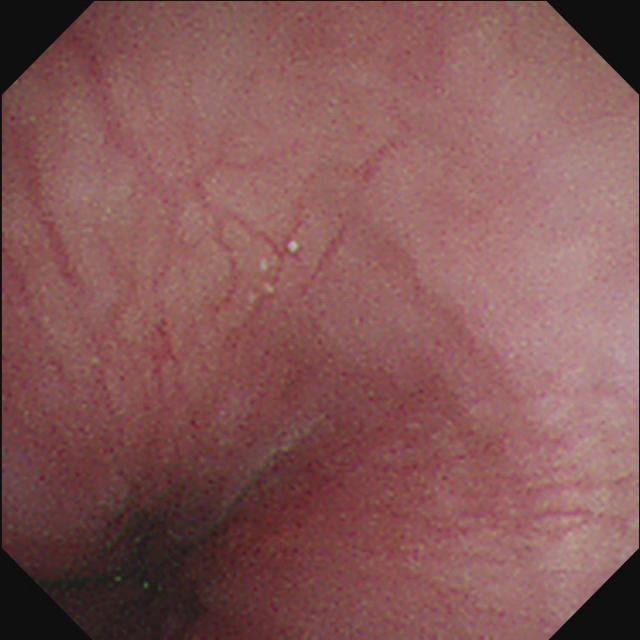E: (59, 515, 198, 629)
J: (286, 241, 300, 255)
